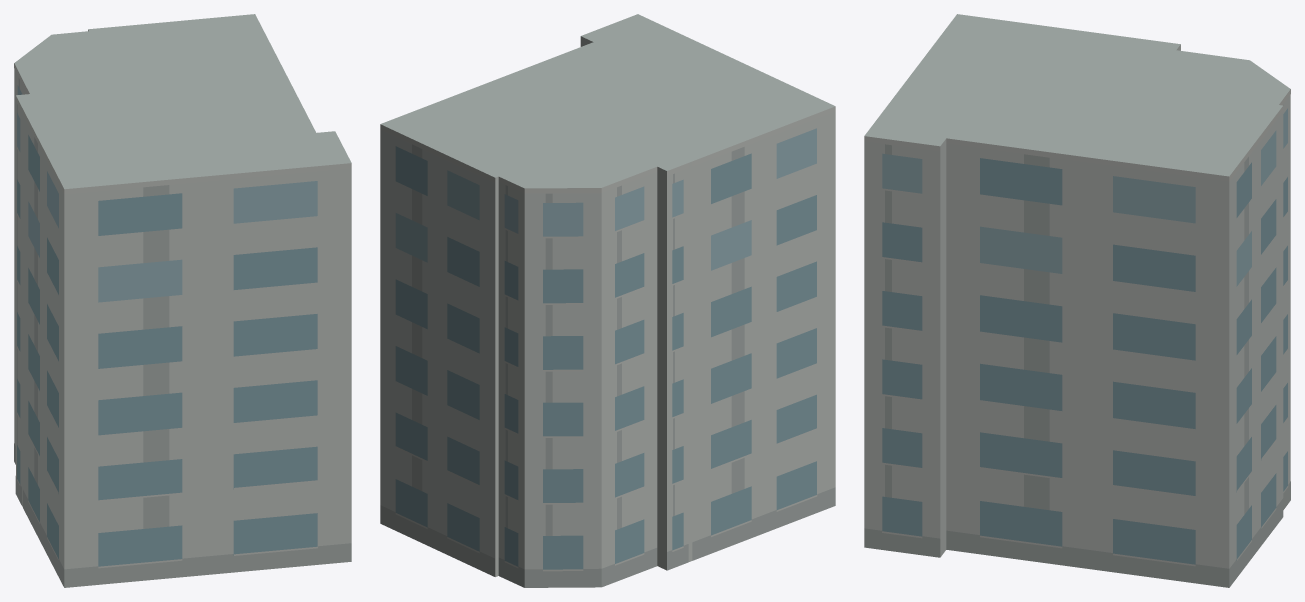
The model's file is survey-upis-32889885.glb.
3 renders of one model, left to right at view 1: azimuth 30°, elevation 25°; view 2: azimuth 150°, elevation 25°; view 3: azimuth 270°, elevation 25°, orthographic. The views are drawn at different scales.
Visible parts, largest first — view 1: survey-upis-32889885.tmp; view 2: survey-upis-32889885.tmp; view 3: survey-upis-32889885.tmp.
Part boxes in pixels (left/top/right/bottom): survey-upis-32889885.tmp: left=14, top=14, right=351, bottom=587; survey-upis-32889885.tmp: left=380, top=14, right=835, bottom=587; survey-upis-32889885.tmp: left=864, top=14, right=1290, bottom=587.
Size of the model in its own units: 15.51 by 18.3 by 17.2.
